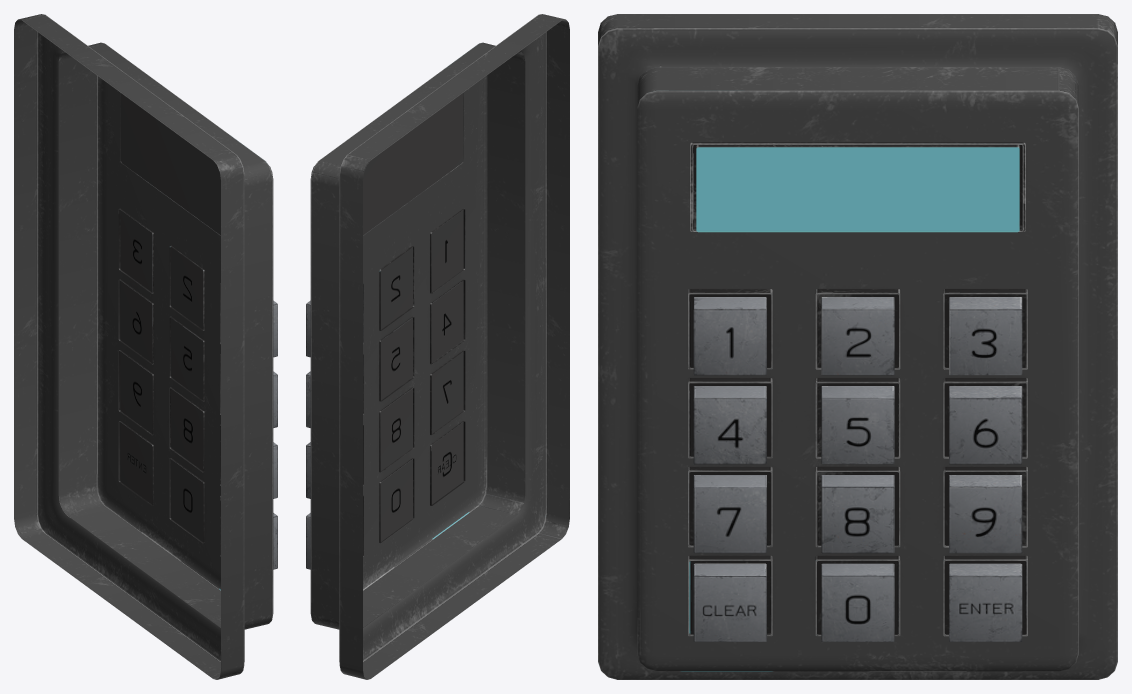
Rendered from codelock.glb.
3 views of the same model, side by side, from view 1: azimuth 30°, elevation 25°; view 2: azimuth 150°, elevation 25°; view 3: azimuth 270°, elevation 25° (orthographic). The views are drawn at different scales.
Visible parts, largest first — view 1: Cube; view 2: Cube; view 3: Cube.
Part boxes in pixels (x1=…): Cube: x1=14, y1=14, x2=277, y2=679; Cube: x1=306, y1=14, x2=569, y2=679; Cube: x1=598, y1=14, x2=1117, y2=679.
Bounding box in the file's own units: 0.5317 × 2.77 × 2.
Materials: 1 (1 with a texture image).
